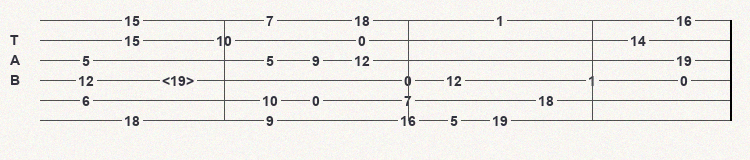0: (312, 93, 324, 107), (358, 33, 370, 47), (404, 73, 416, 87), (680, 73, 692, 87)
1: (496, 13, 508, 27), (588, 73, 600, 87)
10: (216, 33, 236, 47), (262, 93, 282, 107)
12: (78, 73, 98, 87), (354, 53, 374, 67), (446, 73, 466, 87)
14: (630, 33, 650, 47)
15: (124, 33, 144, 47), (124, 13, 144, 27)
16: (400, 113, 420, 127), (676, 13, 696, 27)
18: (124, 113, 144, 127), (354, 13, 374, 27), (538, 93, 558, 107)
19: (492, 113, 512, 127), (676, 53, 696, 67)
5: (82, 53, 94, 67), (266, 53, 278, 67), (450, 113, 462, 127)
6: (82, 93, 94, 107)
7: (266, 13, 278, 27), (404, 93, 416, 107)
9: (266, 113, 278, 127), (312, 53, 324, 67)
harmonic: (162, 73, 198, 87)
